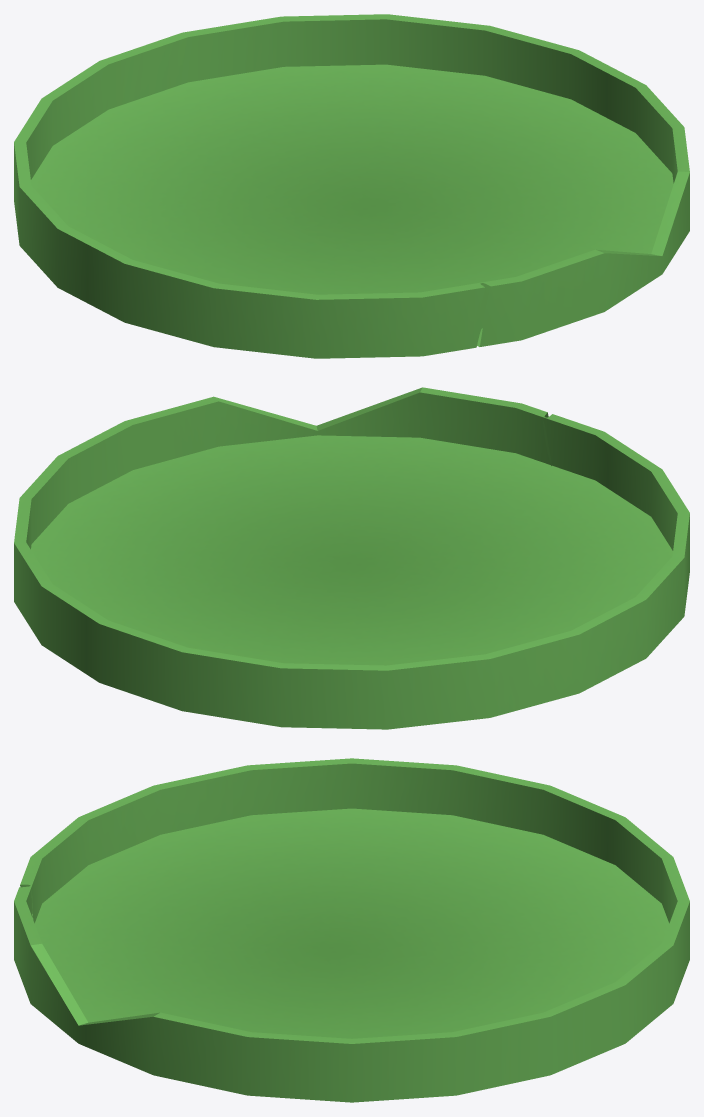
File: SM_Sw_GiantWaterLily_03.fbx
The picture shows the model from 3 angles, top to bottom: view 1: azimuth 30°, elevation 25°; view 2: azimuth 150°, elevation 25°; view 3: azimuth 270°, elevation 25°; orthographic projection.
Parts seen in each view (by area): view 1: SM_Sw_GiantWaterLily_03; view 2: SM_Sw_GiantWaterLily_03; view 3: SM_Sw_GiantWaterLily_03.
Part boxes in pixels (<box>): SM_Sw_GiantWaterLily_03: <box>14,14,689,358</box>; SM_Sw_GiantWaterLily_03: <box>14,387,689,729</box>; SM_Sw_GiantWaterLily_03: <box>14,758,689,1102</box>.
Size of the model in its own units: 119 by 11.39 by 119.
